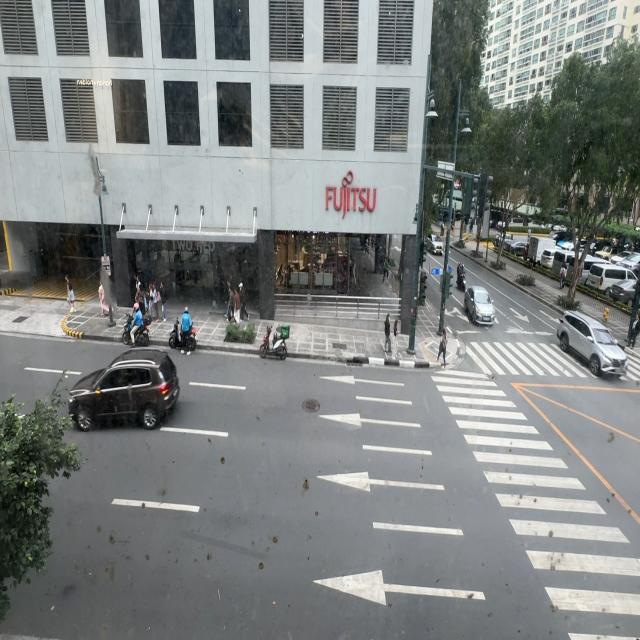crossing: (438, 329, 447, 369)
pedestrain: (381, 314, 394, 354), (238, 282, 250, 322), (98, 280, 110, 318), (148, 283, 158, 323), (225, 284, 235, 323), (66, 276, 76, 315), (159, 283, 168, 323), (233, 288, 240, 326)
